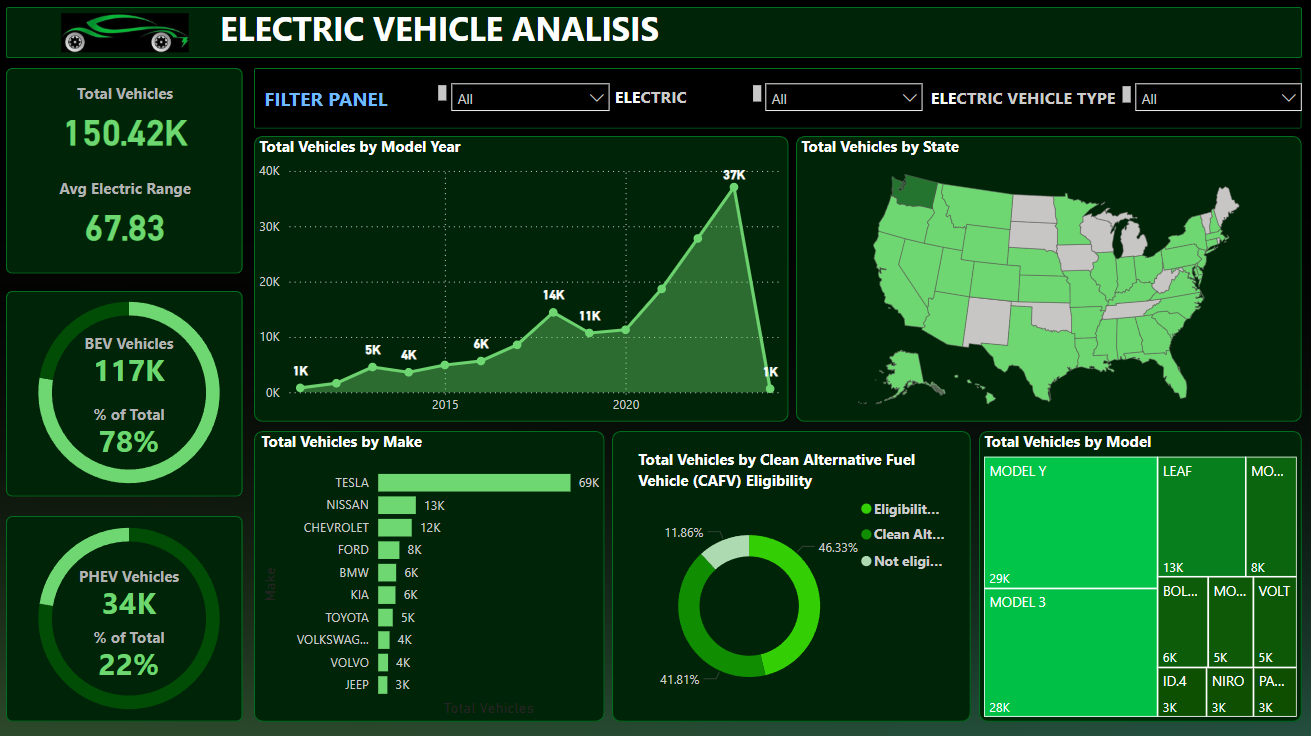

The page's visual inventory and layout, read from the dashboard file:
{"tool":"powerbi","page":{"name":"Page 1","canvas":[1280,720],"ordinal":0},"visuals":[{"type":"shape","box":[9.7,6.8,1260.5,49.6],"z":0},{"type":"textbox","box":[9.7,0,661.4,56.4],"z":1000},{"type":"shape","box":[9.7,66.1,230.5,200.4],"z":2000},{"type":"card","title":"Total Vehicles","fields":{"Values":["Electric_Vehicle_Population_Data.Total Vehicles"]},"box":[24.3,80.7,202.3,71],"z":3000},{"type":"card","title":"Avg Electric Range","fields":{"Values":["Avg(Electric_Vehicle_Population_Data.Electric Range)"]},"box":[24.3,173.1,202.3,71],"z":4000},{"type":"shape","box":[9.7,283,230.5,200.4],"z":5000},{"type":"shape","box":[9.7,501.9,230.5,200.4],"z":6000},{"type":"donutChart","fields":{"Category":["Electric_Vehicle_Population_Data.Electric Vehicle Type"],"Y":["Electric_Vehicle_Population_Data.Total Vehicles"]},"box":[0,266.5,258.7,230.5],"z":7000},{"type":"card","title":"BEV Vehicles","fields":{"Values":["Electric_Vehicle_Population_Data.BEV Vehicles"]},"box":[28.2,323.9,202.3,51.6],"z":8000},{"type":"card","title":"% of Total","fields":{"Values":["Electric_Vehicle_Population_Data.% of BEV"]},"box":[28.2,392.9,202.3,51.6],"z":9000},{"type":"donutChart","fields":{"Category":["Electric_Vehicle_Population_Data.Electric Vehicle Type"],"Y":["Electric_Vehicle_Population_Data.Total Vehicles"]},"box":[0,486.3,258.7,230.5],"z":10000},{"type":"card","title":"PHEV Vehicles","fields":{"Values":["Electric_Vehicle_Population_Data.PHEV Vehicles"]},"box":[28.2,550.5,202.3,51.6],"z":11000},{"type":"card","title":"% of Total","fields":{"Values":["Electric_Vehicle_Population_Data.% of PHEV"]},"box":[28.2,609.8,202.3,51.6],"z":12000},{"type":"shape","box":[250.9,66.1,1019.3,59.3],"z":13000},{"type":"shape","box":[250.9,132.3,520.4,278.2],"z":14000},{"type":"areaChart","fields":{"Category":["Electric_Vehicle_Population_Data.Model Year"],"Y":["Electric_Vehicle_Population_Data.Total Vehicles"]},"box":[250.9,132.3,520.4,280.1],"z":15000},{"type":"shape","box":[778.1,132.3,492.2,278.2],"z":16000},{"type":"shapeMap","fields":{"Category":["Electric_Vehicle_Population_Data.State"],"Value":["Electric_Vehicle_Population_Data.Total Vehicles"]},"box":[778.1,132.3,492.2,278.2],"z":17000},{"type":"shape","box":[250.9,419.2,341.4,283],"z":18000},{"type":"barChart","fields":{"Category":["Electric_Vehicle_Population_Data.Make"],"Y":["Electric_Vehicle_Population_Data.Total Vehicles"]},"box":[252.9,419.2,339.5,283],"z":19000},{"type":"shape","box":[599.1,419.2,349.2,283],"z":20000},{"type":"donutChart","fields":{"Category":["Electric_Vehicle_Population_Data.Clean Alternative Fuel Vehicle (CAFV) Eligibility"],"Y":["Electric_Vehicle_Population_Data.Total Vehicles"]},"box":[619.6,436.7,319,265.5],"z":21000},{"type":"shape","box":[956.1,419.2,314.2,283],"z":22000},{"type":"treemap","fields":{"Group":["Electric_Vehicle_Population_Data.Model"],"Values":["Electric_Vehicle_Population_Data.Total Vehicles"]},"box":[956.1,419.2,314.2,283],"z":23000},{"type":"textbox","box":[250.9,77.8,144,36],"z":24000},{"type":"slicer","fields":{"Values":["Electric_Vehicle_Population_Data.City"]},"box":[432.8,71,174.1,51.6],"z":25000},{"type":"textbox","box":[388.1,77.8,55.4,36],"z":26000},{"type":"slicer","fields":{"Values":["Electric_Vehicle_Population_Data.City"]},"box":[738.2,71,173.1,51.6],"z":27000},{"type":"textbox","box":[592.3,77.8,156.6,36],"z":28000},{"type":"slicer","fields":{"Values":["Electric_Vehicle_Population_Data.City"]},"box":[1098.1,71,181.9,51.6],"z":28001},{"type":"textbox","box":[899.7,78.8,209.1,36],"z":28002},{"type":"image","box":[58.4,6.8,134.2,49.6],"z":28003}]}

Visuals, with their boxes in screenshot pixels (x1, y1, x2, y2), scaled from the page's 1280x720 canvas onto the 1311x736 screenshot:
shape: {"left": 10, "top": 7, "right": 1301, "bottom": 58}
textbox: {"left": 10, "top": 0, "right": 687, "bottom": 58}
shape: {"left": 10, "top": 68, "right": 246, "bottom": 272}
"Total Vehicles" card: {"left": 25, "top": 82, "right": 232, "bottom": 155}
"Avg Electric Range" card: {"left": 25, "top": 177, "right": 232, "bottom": 250}
shape: {"left": 10, "top": 289, "right": 246, "bottom": 494}
shape: {"left": 10, "top": 513, "right": 246, "bottom": 718}
donutChart - Electric_Vehicle_Population_Data.Electric Vehicle Type x Electric_Vehicle_Population_Data.Total Vehicles: {"left": 0, "top": 272, "right": 265, "bottom": 508}
"BEV Vehicles" card: {"left": 29, "top": 331, "right": 236, "bottom": 384}
"% of Total" card: {"left": 29, "top": 402, "right": 236, "bottom": 454}
donutChart - Electric_Vehicle_Population_Data.Electric Vehicle Type x Electric_Vehicle_Population_Data.Total Vehicles: {"left": 0, "top": 497, "right": 265, "bottom": 733}
"PHEV Vehicles" card: {"left": 29, "top": 563, "right": 236, "bottom": 615}
"% of Total" card: {"left": 29, "top": 623, "right": 236, "bottom": 676}
shape: {"left": 257, "top": 68, "right": 1301, "bottom": 128}
shape: {"left": 257, "top": 135, "right": 790, "bottom": 420}
areaChart - Electric_Vehicle_Population_Data.Model Year x Electric_Vehicle_Population_Data.Total Vehicles: {"left": 257, "top": 135, "right": 790, "bottom": 422}
shape: {"left": 797, "top": 135, "right": 1301, "bottom": 420}
shapeMap - Electric_Vehicle_Population_Data.State x Electric_Vehicle_Population_Data.Total Vehicles: {"left": 797, "top": 135, "right": 1301, "bottom": 420}
shape: {"left": 257, "top": 429, "right": 607, "bottom": 718}
barChart - Electric_Vehicle_Population_Data.Make x Electric_Vehicle_Population_Data.Total Vehicles: {"left": 259, "top": 429, "right": 607, "bottom": 718}
shape: {"left": 614, "top": 429, "right": 971, "bottom": 718}
donutChart - Electric_Vehicle_Population_Data.Clean Alternative Fuel Vehicle (CAFV) Eligibility x Electric_Vehicle_Population_Data.Total Vehicles: {"left": 635, "top": 446, "right": 961, "bottom": 718}
shape: {"left": 979, "top": 429, "right": 1301, "bottom": 718}
treemap - Electric_Vehicle_Population_Data.Model x Electric_Vehicle_Population_Data.Total Vehicles: {"left": 979, "top": 429, "right": 1301, "bottom": 718}
textbox: {"left": 257, "top": 80, "right": 404, "bottom": 116}
slicer - Electric_Vehicle_Population_Data.City: {"left": 443, "top": 73, "right": 622, "bottom": 125}
textbox: {"left": 397, "top": 80, "right": 454, "bottom": 116}
slicer - Electric_Vehicle_Population_Data.City: {"left": 756, "top": 73, "right": 933, "bottom": 125}
textbox: {"left": 607, "top": 80, "right": 767, "bottom": 116}
slicer - Electric_Vehicle_Population_Data.City: {"left": 1125, "top": 73, "right": 1310, "bottom": 125}
textbox: {"left": 921, "top": 81, "right": 1136, "bottom": 117}
image: {"left": 60, "top": 7, "right": 197, "bottom": 58}
